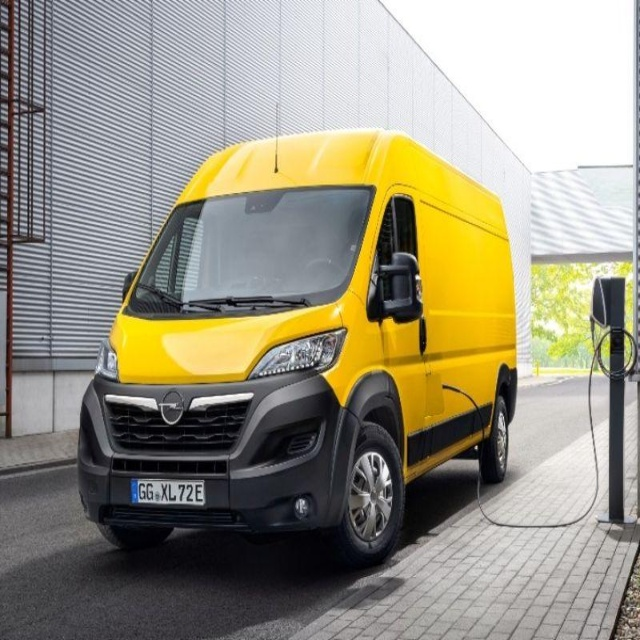Van: (78, 125, 517, 567)
